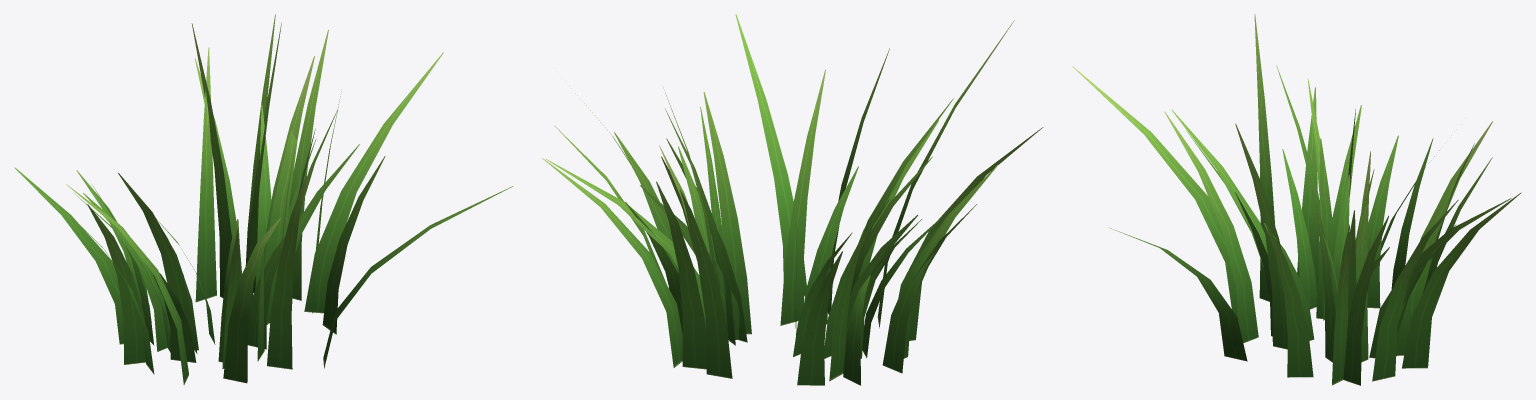
The model's file is grass_tall.glb.
3 views of the same model, side by side, from view 1: azimuth 30°, elevation 25°; view 2: azimuth 150°, elevation 25°; view 3: azimuth 270°, elevation 25° (orthographic). The views are drawn at different scales.
Visible parts, largest first — view 1: grass_tall; view 2: grass_tall; view 3: grass_tall.
Part boxes in pixels (<box>): grass_tall: <box>14,14,513,385</box>; grass_tall: <box>542,14,1043,385</box>; grass_tall: <box>1072,14,1521,385</box>.
Size of the model in its own units: 1.91 by 1.04 by 1.78.
Materials: 1 (1 with a texture image).
